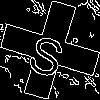S: (25, 25, 70, 80)
